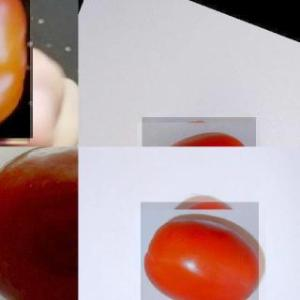tomato: (141, 202, 259, 300), (0, 0, 30, 140), (142, 118, 256, 146)
